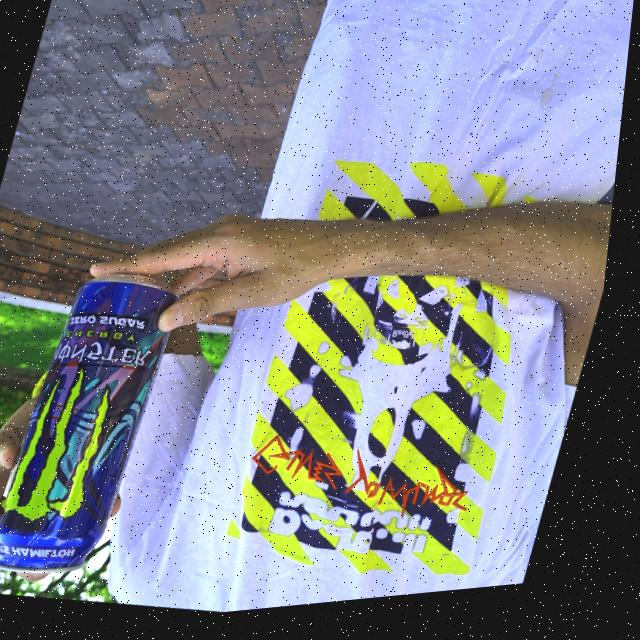Monster LH44: (0, 258, 198, 588)
